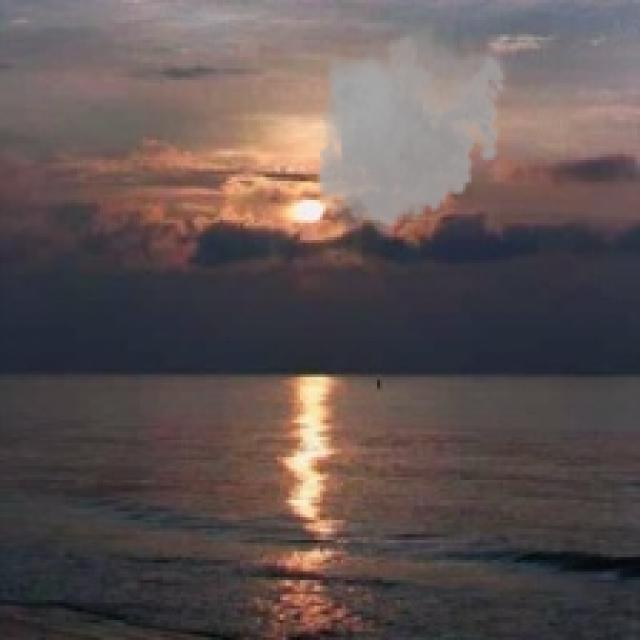Smoke: (308, 20, 512, 240)
